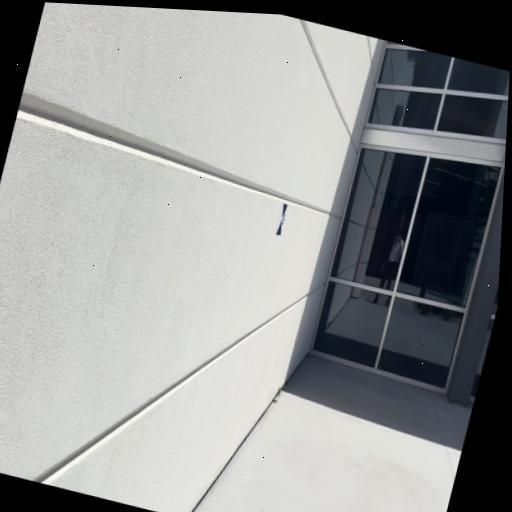target4: (276, 203, 289, 237)
